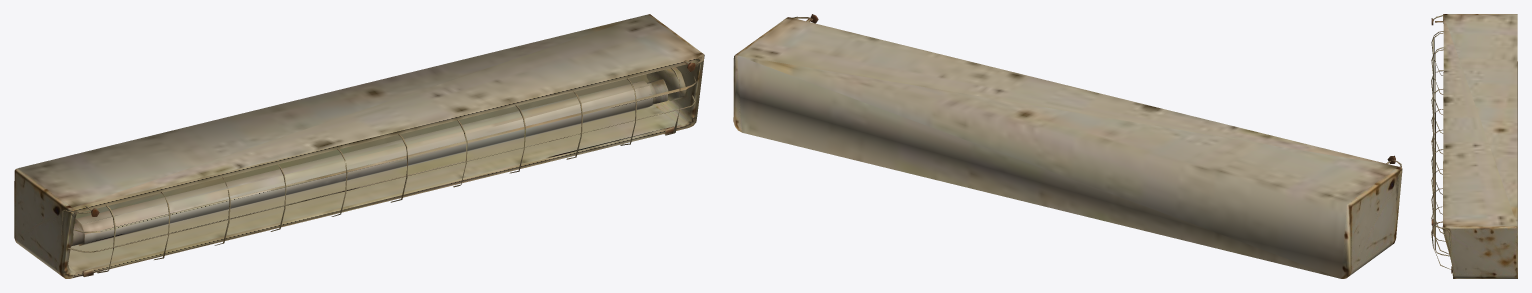
The model's file is epi_lamp.glb.
The picture shows the model from 3 angles, left to right: view 1: azimuth 30°, elevation 25°; view 2: azimuth 150°, elevation 25°; view 3: azimuth 270°, elevation 25°; orthographic projection. The views are drawn at different scales.
Visible parts, largest first — view 1: geometry_0; view 2: geometry_0; view 3: geometry_0.
Boxes of the visible parts, x1,y1,x2,y2 form: geometry_0: (14, 14, 704, 278); geometry_0: (733, 14, 1402, 278); geometry_0: (1431, 14, 1517, 278).
Size of the model in its own units: 1.2 by 0.1451 by 0.2043.
Materials: 1 (1 with a texture image).
